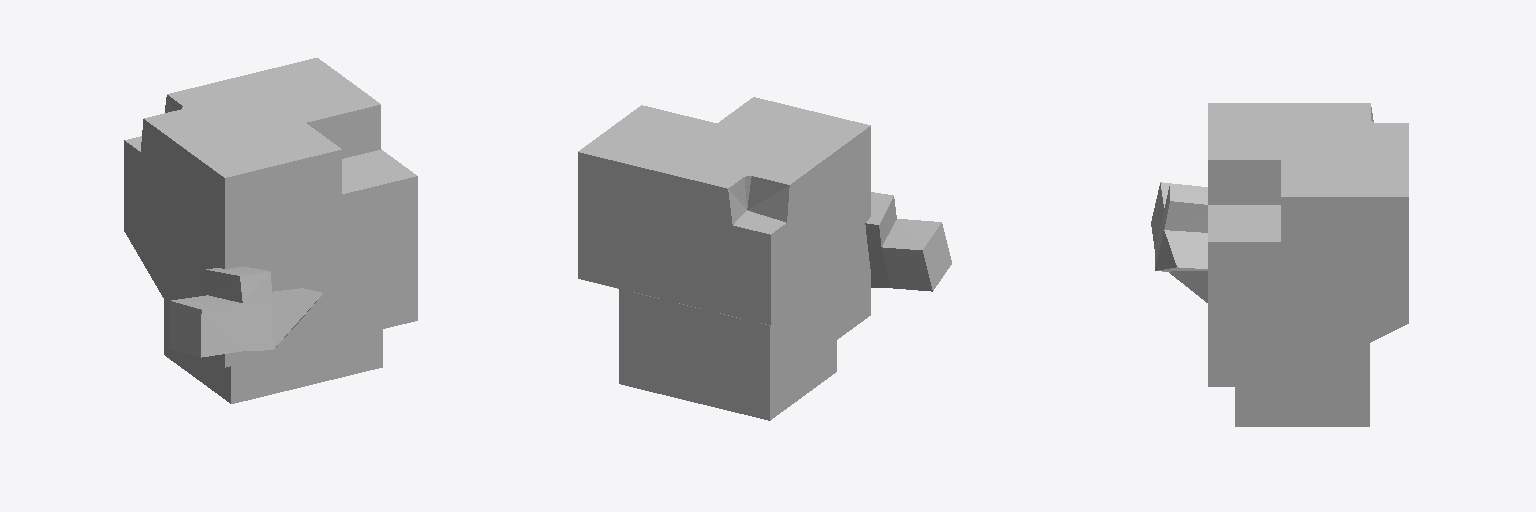
Rendered from Mineral.obj.
The picture shows the model from 3 angles: view 1: azimuth 30°, elevation 25°; view 2: azimuth 150°, elevation 25°; view 3: azimuth 270°, elevation 25°; orthographic projection.
Parts seen in each view (by area): view 1: pCube1, pCube3, pCube2; view 2: pCube1, pCube2, pCube3; view 3: pCube1, pCube2, pCube3.
Part boxes in pixels (x1,y1,x2,y2): pCube1: (124, 58, 417, 367); pCube3: (169, 266, 322, 357); pCube2: (164, 300, 382, 403); pCube1: (578, 97, 870, 341); pCube2: (619, 289, 836, 420); pCube3: (865, 192, 951, 291); pCube1: (1208, 103, 1408, 386); pCube2: (1235, 343, 1369, 426); pCube3: (1151, 182, 1207, 302).
Bounding box in the file's own units: 6.35 × 5.81 × 5.64.